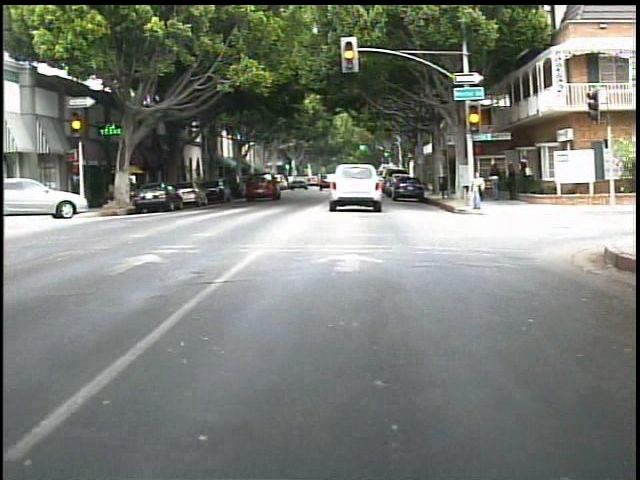person: (465, 168, 488, 213), (517, 154, 534, 193), (490, 162, 505, 203), (506, 163, 520, 205)
